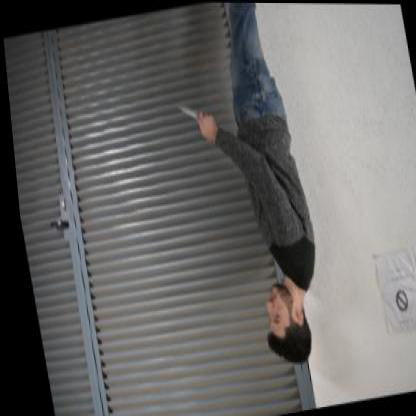knife: (172, 95, 210, 132)
